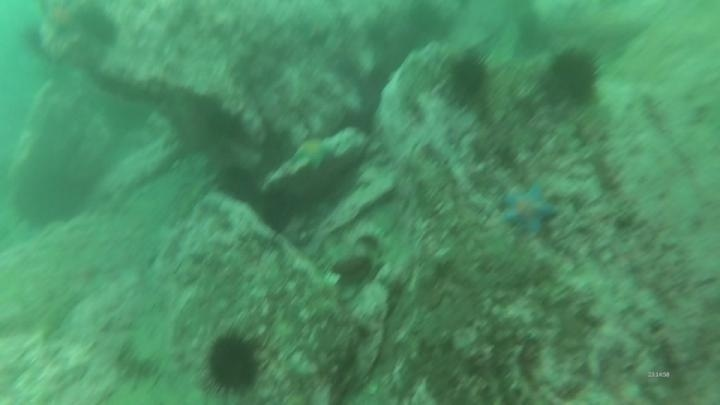echinus: (10, 163, 89, 231), (199, 328, 268, 400), (540, 46, 605, 109), (445, 51, 492, 104), (74, 5, 122, 50), (214, 162, 261, 206)
holothurian: (404, 150, 460, 224)
starfish: (498, 181, 560, 239), (289, 133, 339, 172), (39, 1, 85, 40)
